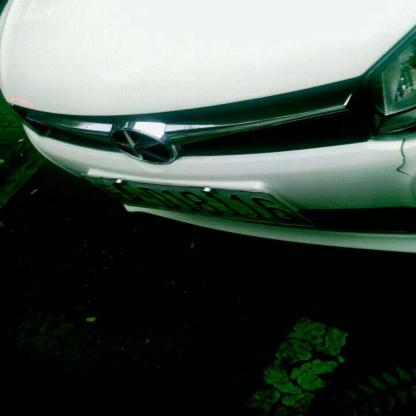lp: (82, 177, 316, 226)
